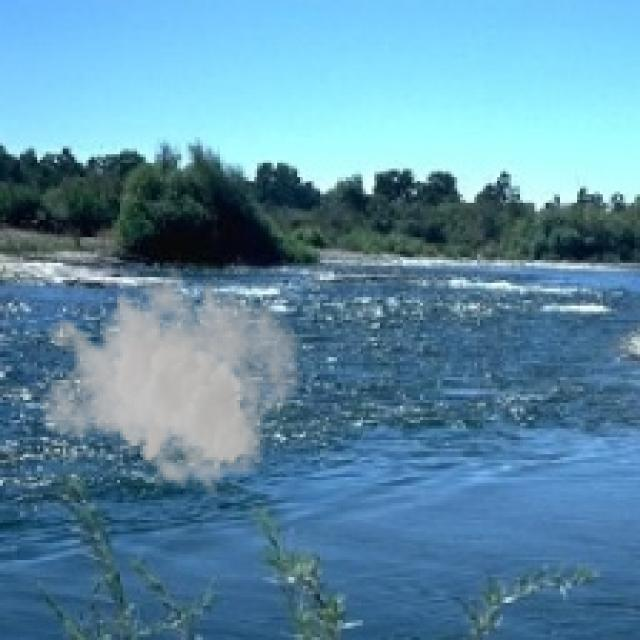Smoke: (37, 252, 303, 497)
